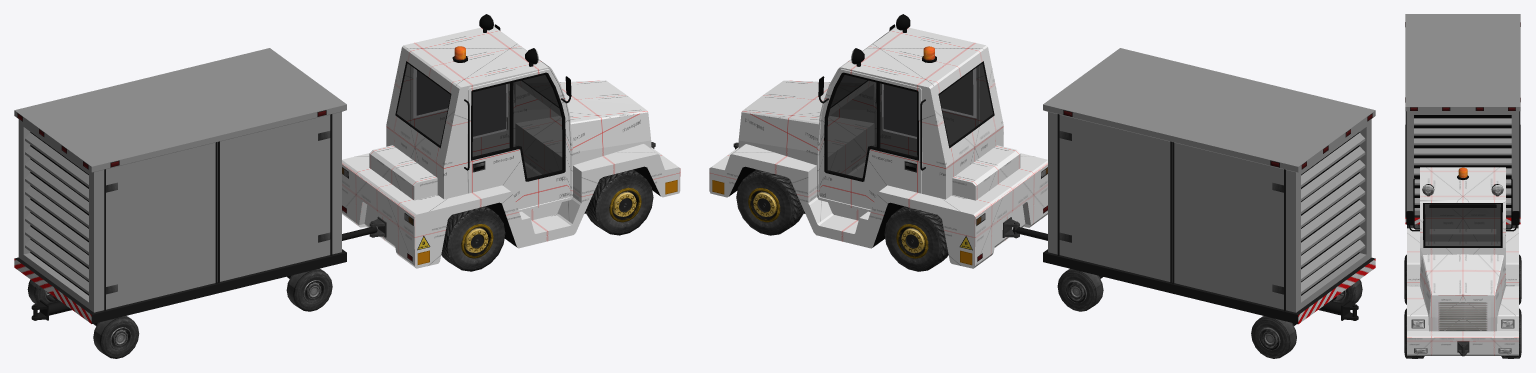
File: bagcraft_a.FBX
3 views of the same model, side by side, from view 1: azimuth 30°, elevation 25°; view 2: azimuth 150°, elevation 25°; view 3: azimuth 270°, elevation 25° (orthographic). The views are drawn at different scales.
Visible parts, largest first — view 1: Box001, Object001, Cylinder002, Cylinder005, Cylinder015, Cylinder011; view 2: Box001, Object001, Cylinder009, Cylinder008, Cylinder017, Cylinder016; view 3: Object001, Box001, Cylinder002, Cylinder009, Cylinder005, Cylinder008.
Boxes of the visible parts, box(x1,y1,x2,y2) form: Box001: box(14, 48, 346, 325); Object001: box(342, 14, 680, 268); Cylinder002: box(585, 169, 653, 235); Cylinder005: box(441, 206, 505, 271); Cylinder015: box(286, 268, 332, 311); Cylinder011: box(93, 316, 139, 358); Box001: box(1043, 48, 1375, 325); Object001: box(709, 14, 1047, 268); Cylinder009: box(736, 169, 804, 235); Cylinder008: box(884, 206, 948, 271); Cylinder017: box(1057, 268, 1103, 311); Cylinder016: box(1251, 316, 1296, 358); Object001: box(1406, 167, 1519, 356); Box001: box(1405, 14, 1520, 224); Cylinder002: box(1404, 308, 1424, 358); Cylinder009: box(1501, 308, 1521, 358); Cylinder005: box(1404, 254, 1406, 304); Cylinder008: box(1519, 254, 1521, 304).
Size of the model in its own units: 36.25 by 11.14 by 7.94.
